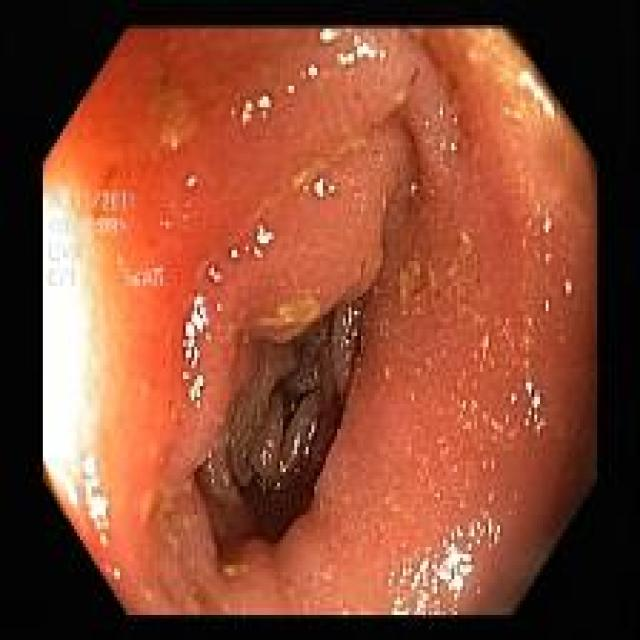ulcerative-colitis: (44, 28, 596, 614)
